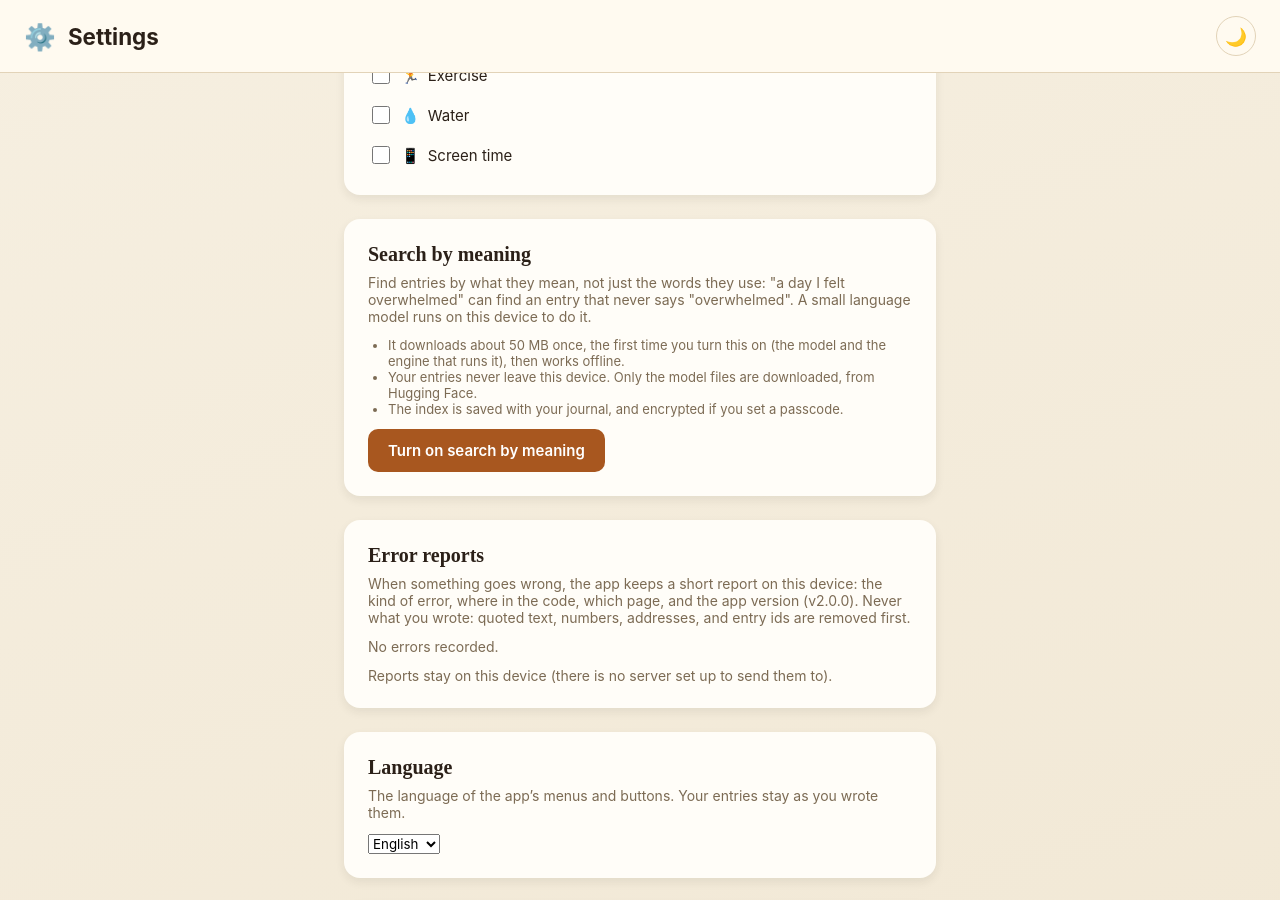
Test: Search by meaning › turning it off deletes the index
(page scrolled)
Click the button "Turn on search by meaning" at (486, 450), box [368,429,605,472]
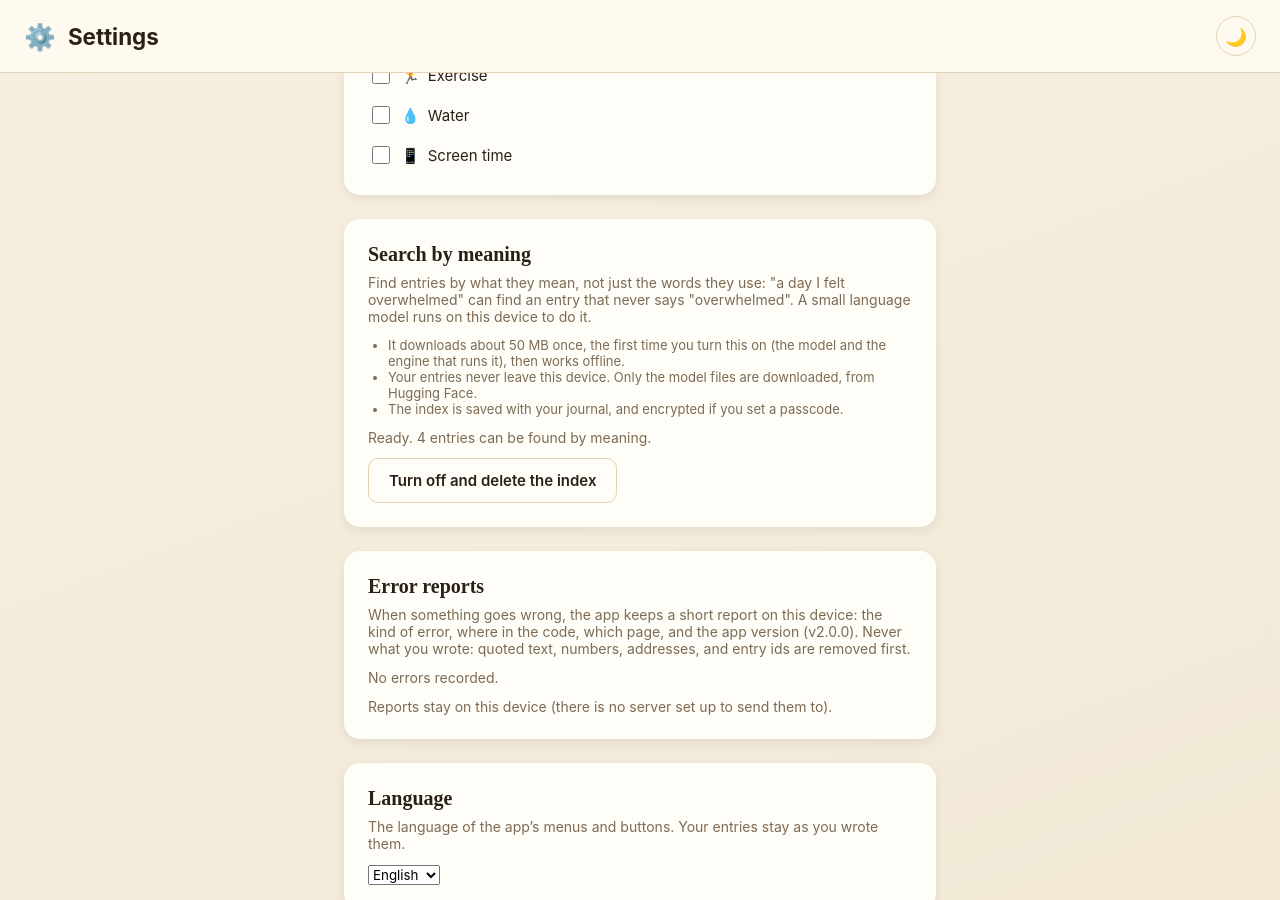
Check: the text "Ready. 4 entries can be found by meaning." is shown, box [368,429,651,446]
Click the button "Turn off and delete the index" at (493, 480), box [368,458,618,503]
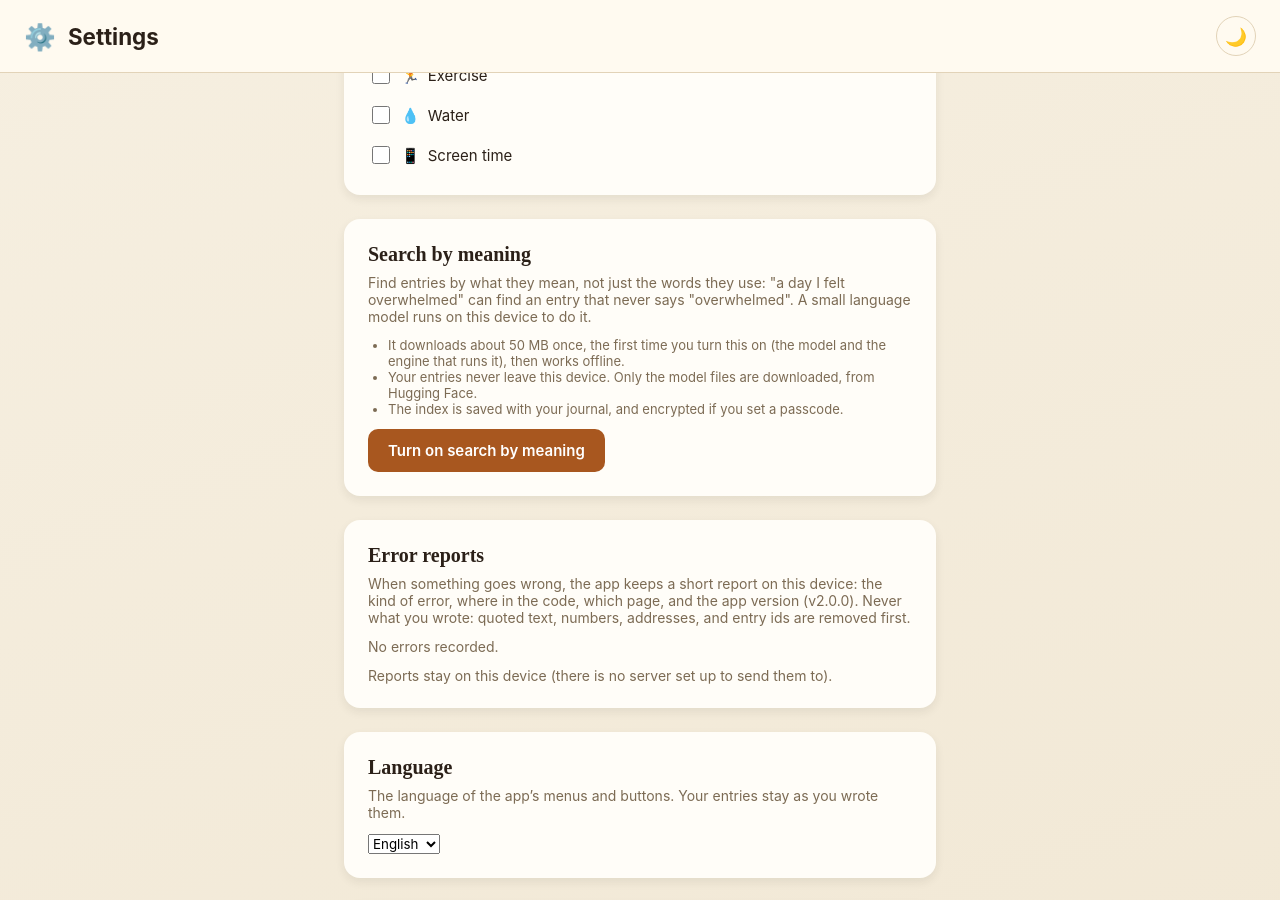
Check: the button "Turn on search by meaning" is shown, box [368,429,605,472]
